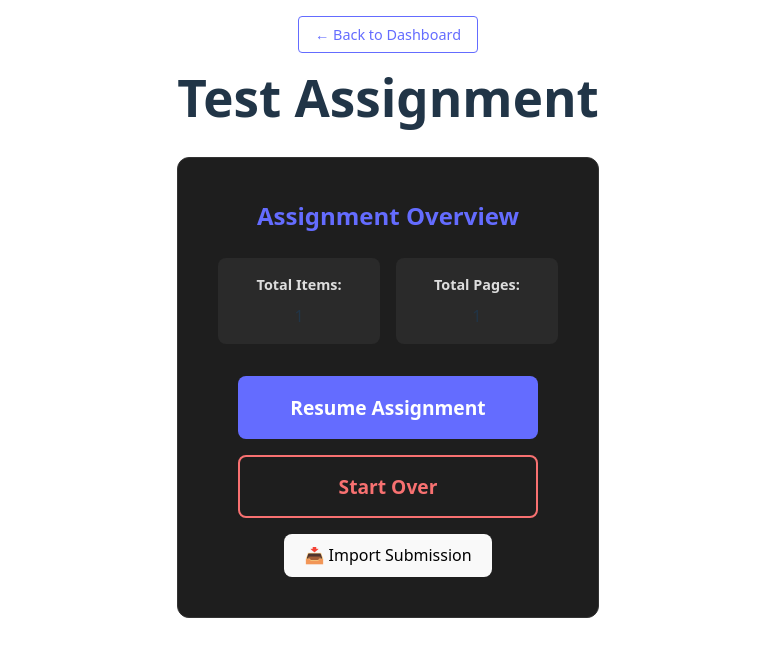
AssignmentTaker › restart button clears saved progress and starts fresh
Click the button with test id "restart-button": (388,486) [238,455,538,518]
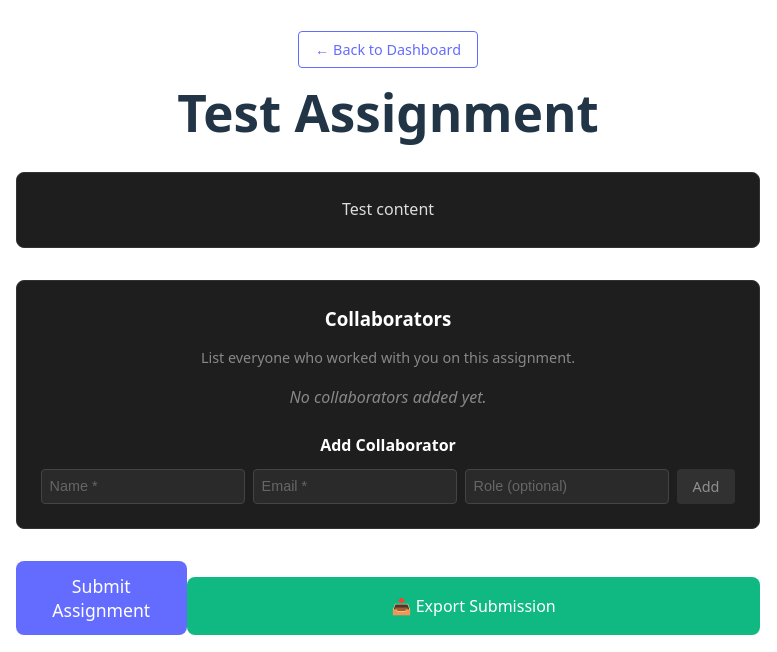
expect the text "Test content" is shown: met, box [342,198,434,220]
